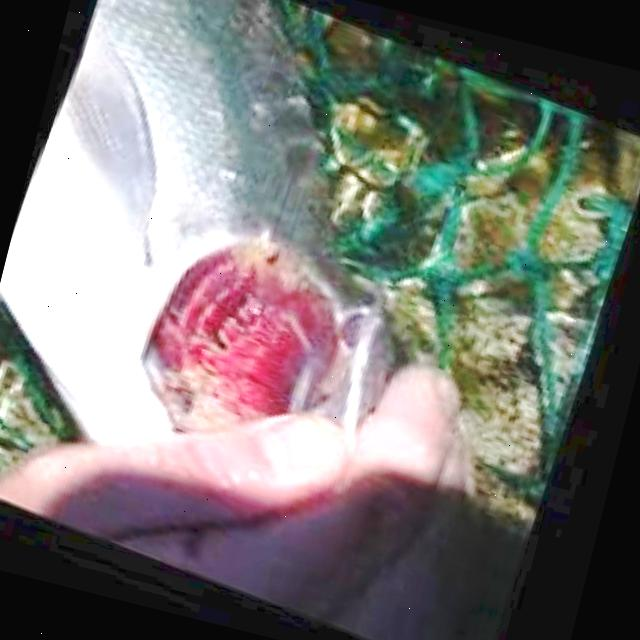Flavobacterium -Bacterial Gill Disease-: (0, 0, 393, 440)
